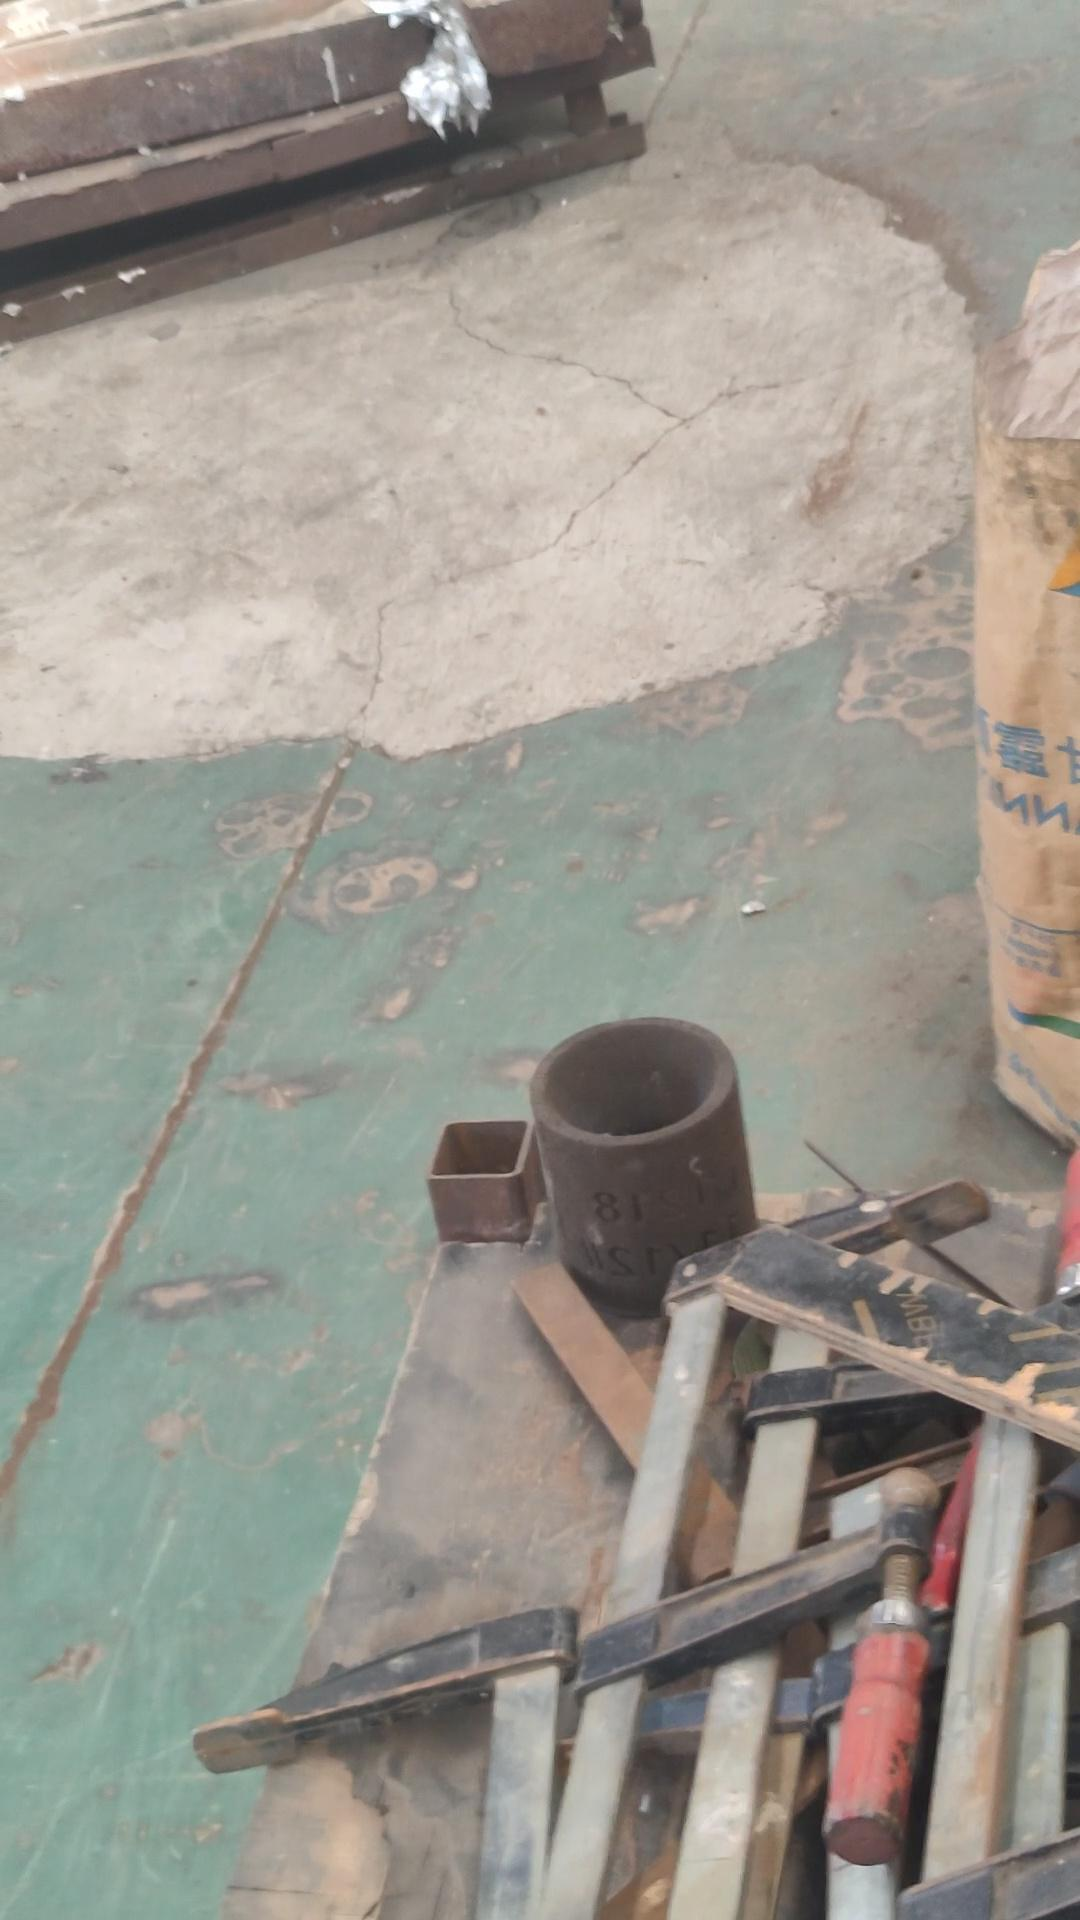pouring hole: (533, 1017, 721, 1135)
